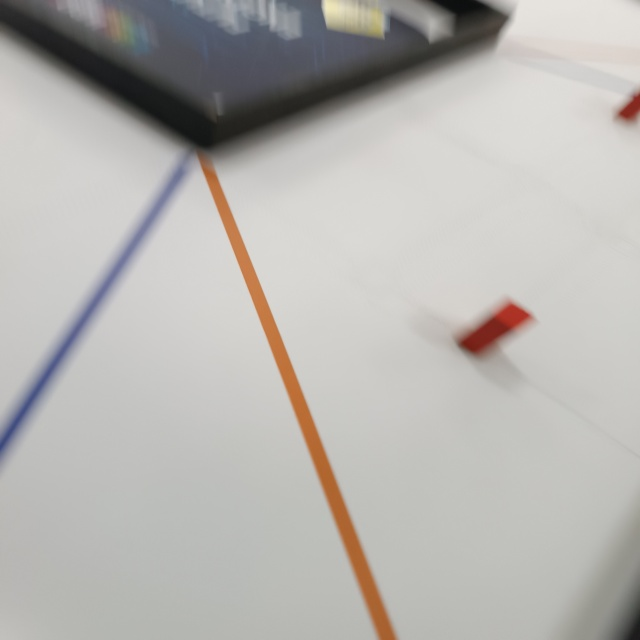blue line: (0, 146, 192, 460)
orange line: (199, 149, 398, 640)
red rectangular prism: (450, 298, 533, 356)
